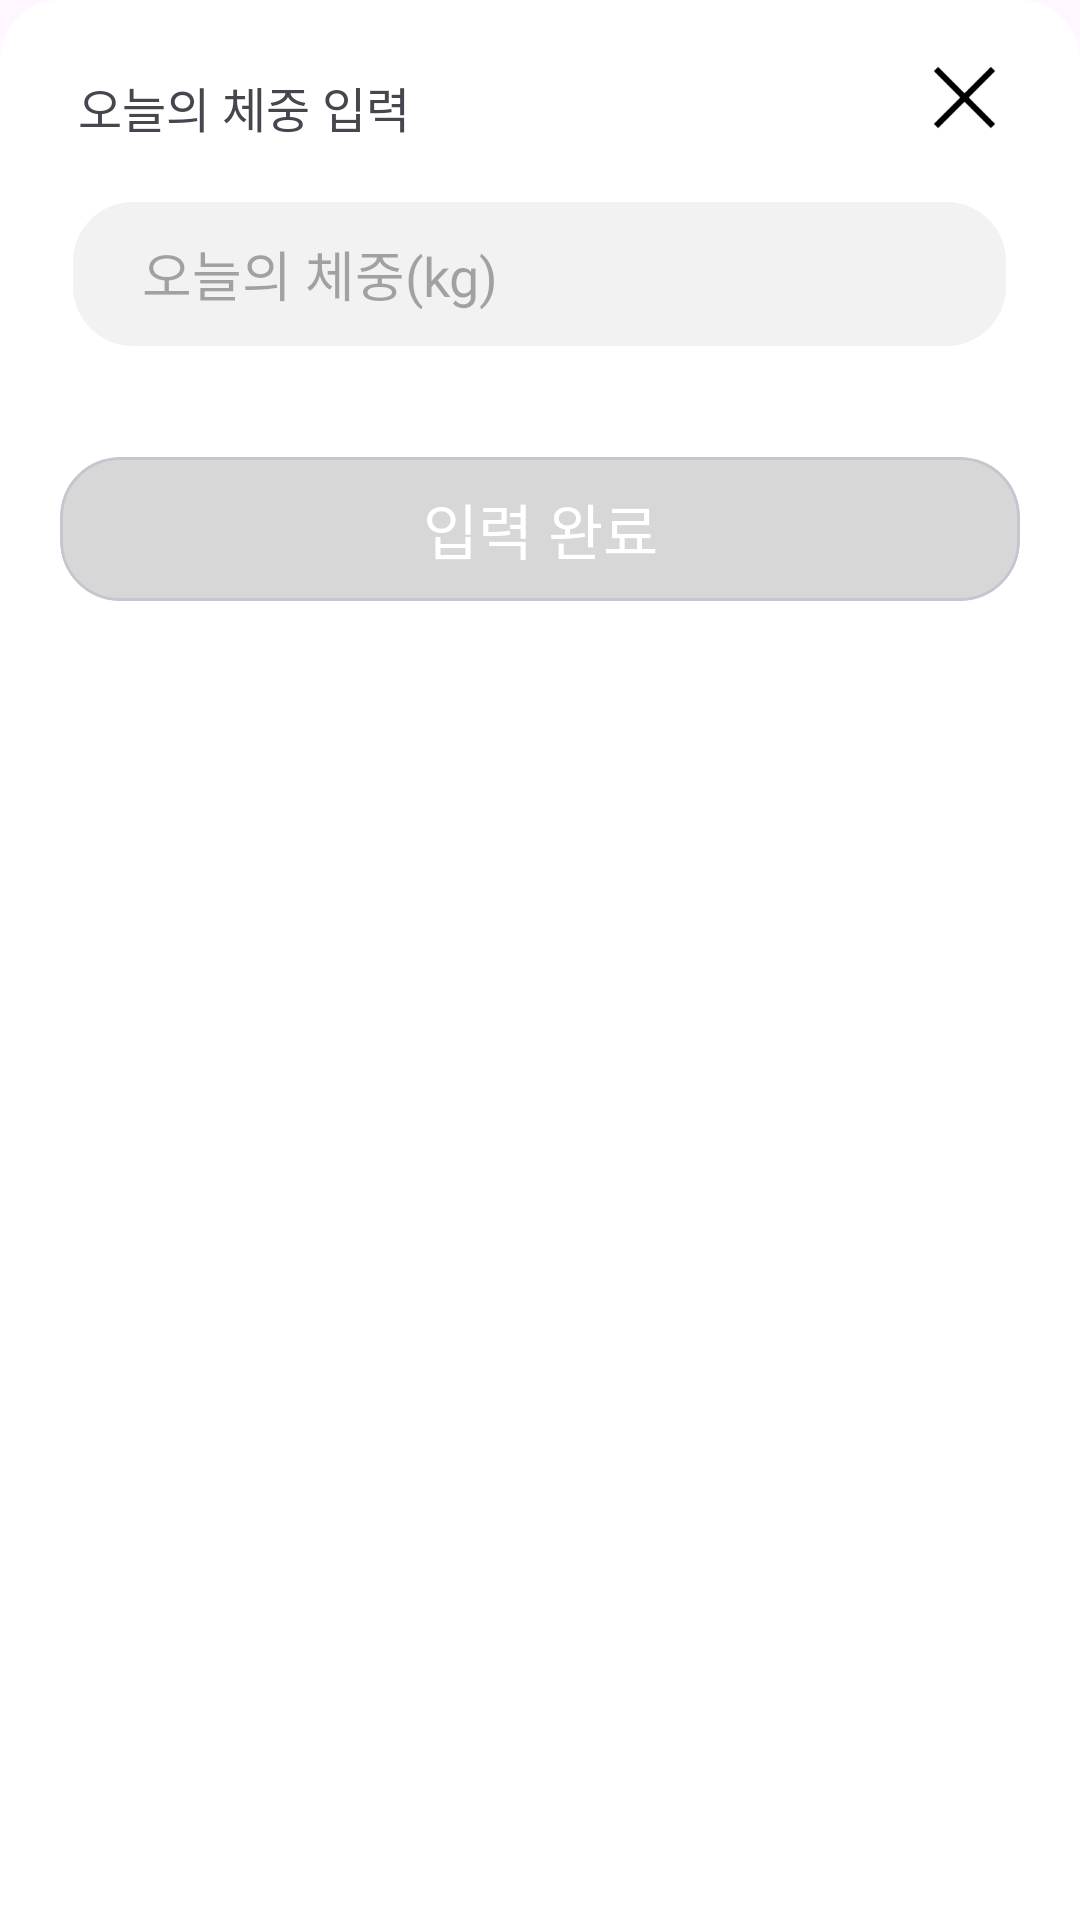

Icon click points for this 1080x1920 phone screenshot, format [x,y]:
cancel: [964,97]
